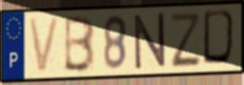8: (102, 13, 128, 72)
B: (62, 13, 97, 74)
D: (201, 8, 239, 68)
N: (132, 11, 168, 72)
V: (26, 15, 63, 76)
Z: (168, 11, 203, 70)
